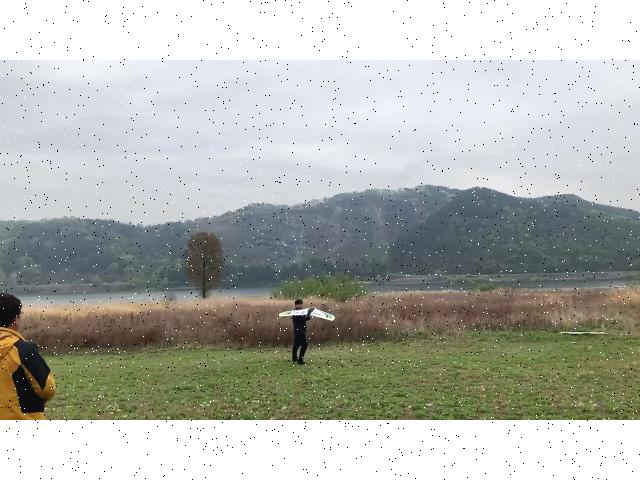Anti-Drone: (268, 298, 342, 325)
